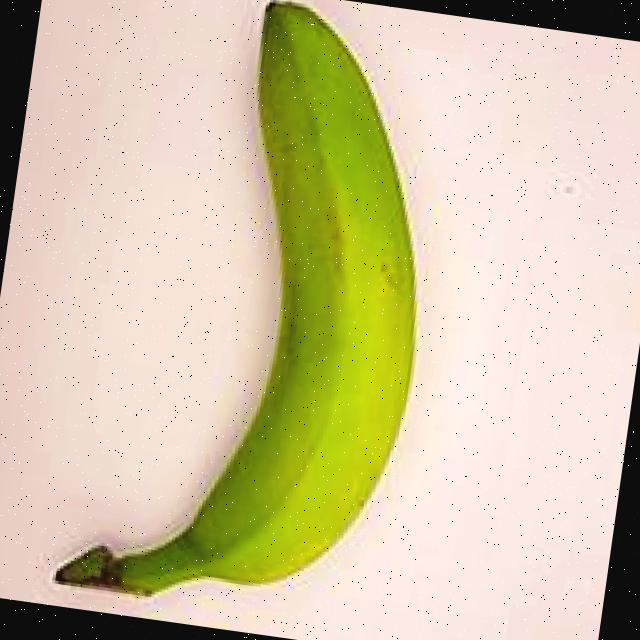Unripe: (11, 0, 488, 640)
